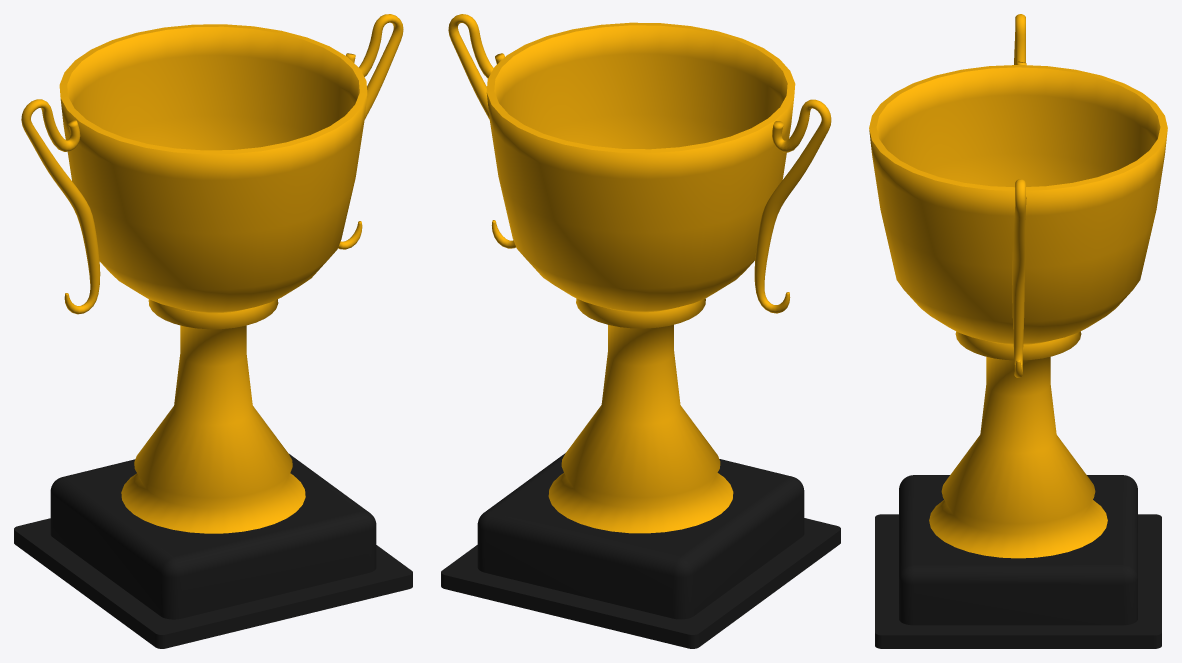
The model's file is Trophy.glb.
3 views of the same model, side by side, from view 1: azimuth 30°, elevation 25°; view 2: azimuth 150°, elevation 25°; view 3: azimuth 270°, elevation 25° (orthographic). The views are drawn at different scales.
Parts seen in each view (by area): view 1: Trophy; view 2: Trophy; view 3: Trophy.
Boxes of the visible parts, x1,y1,x2,y2 form: Trophy: (14,14,412,648); Trophy: (441,14,840,648); Trophy: (869,14,1167,648).
Bounding box in the file's own units: 2.85 × 3.62 × 2.
